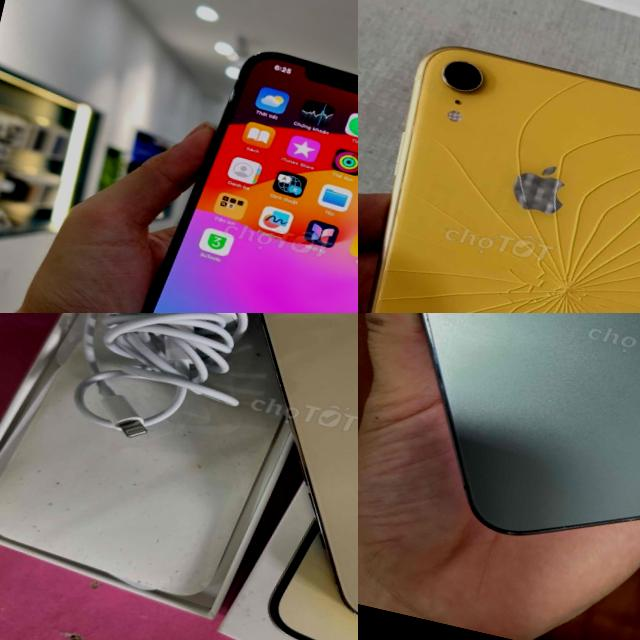gen_12_13: (358, 313, 640, 588), (109, 30, 358, 313)
gen_14: (190, 313, 358, 640)
gen_x_xs: (358, 31, 640, 313)
physical_damage: (358, 45, 640, 313)
